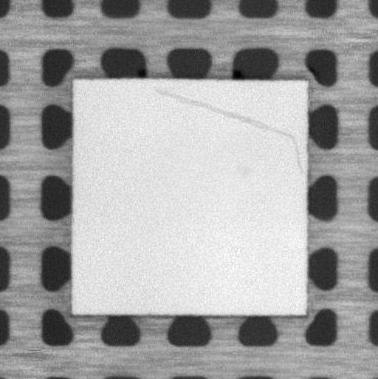DIE_CRACK: (157, 90, 304, 171)
